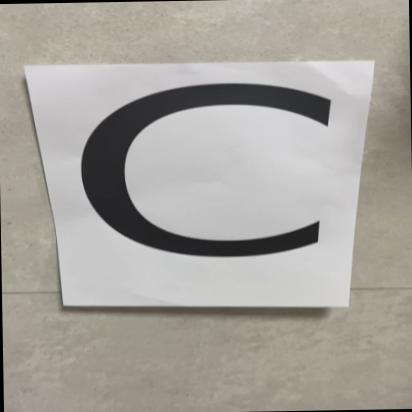seat: (20, 52, 388, 314)
